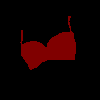reggiseno: (20, 15, 76, 70)
